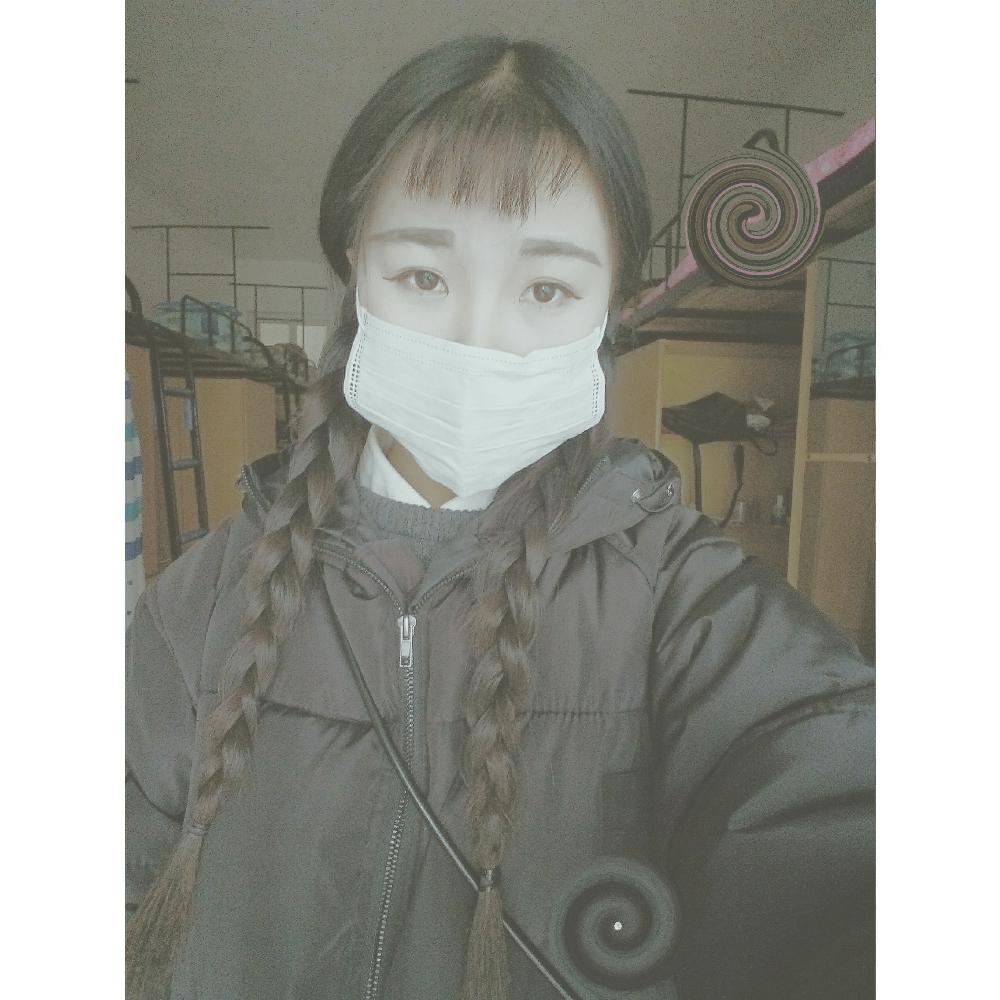WRONG: (347, 217, 620, 490)
